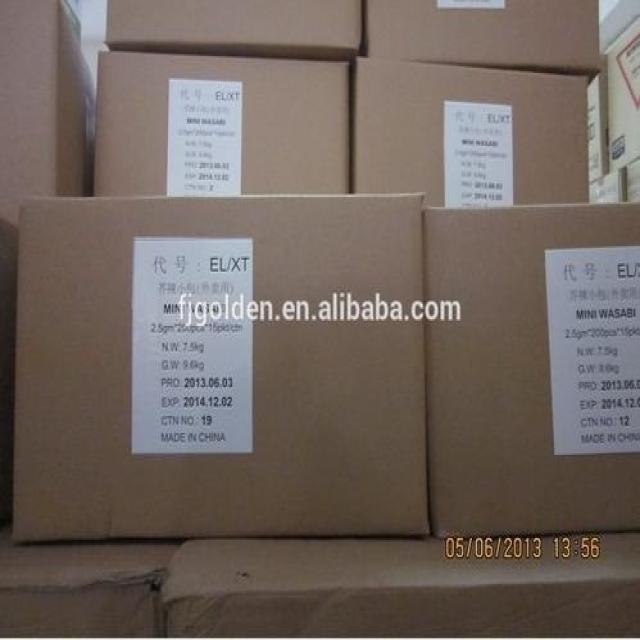box: (14, 193, 433, 542), (424, 200, 639, 536), (159, 528, 639, 638), (93, 48, 355, 194), (353, 55, 592, 206), (0, 1, 85, 227), (0, 536, 186, 637), (106, 1, 367, 57), (607, 19, 639, 173), (591, 66, 610, 183), (86, 56, 97, 195), (591, 166, 628, 203), (58, 1, 83, 48), (628, 160, 639, 200)
